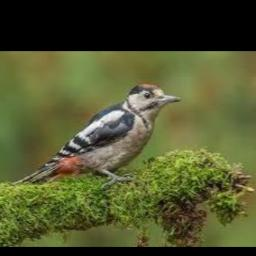Woodpecker: (13, 83, 181, 186)
